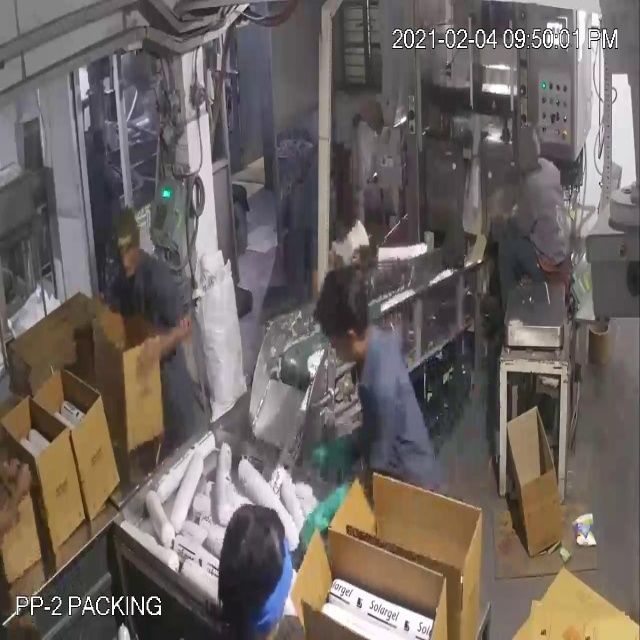Guantes: (313, 421, 364, 490)
Sin_guantes: (134, 307, 197, 380), (0, 438, 39, 547)
